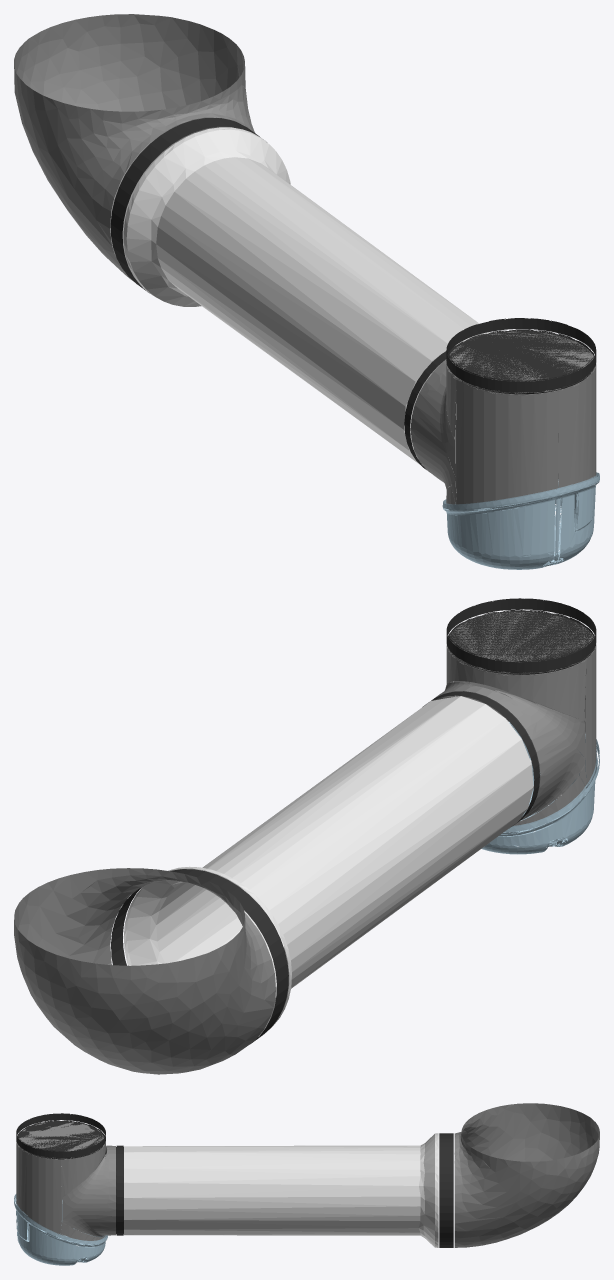
The model's file is ur5e-forearm.glb.
3 renders of one model, top to bottom at view 1: azimuth 30°, elevation 25°; view 2: azimuth 150°, elevation 25°; view 3: azimuth 270°, elevation 25°, orthographic. The views are drawn at different scales.
Parts seen in each view (by area): view 1: ur5e-forearm; view 2: ur5e-forearm; view 3: ur5e-forearm.
Part boxes in pixels (x1,y1,x2,y2): ur5e-forearm: (14, 14, 599, 569); ur5e-forearm: (14, 598, 599, 1074); ur5e-forearm: (14, 1103, 599, 1265).
Size of the model in its own units: 0.1158 by 0.1099 by 0.4894.
